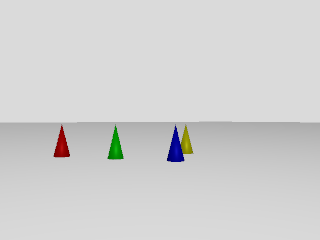blue: (162, 123, 186, 163)
green: (105, 122, 124, 161)
red: (52, 122, 71, 158)
yellow: (181, 123, 195, 156)
